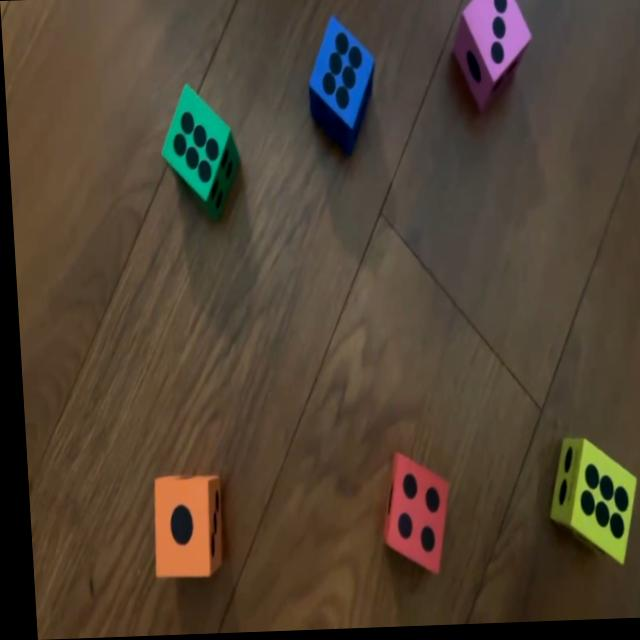blue_block: (303, 16, 377, 157)
red_block: (373, 451, 447, 577)
